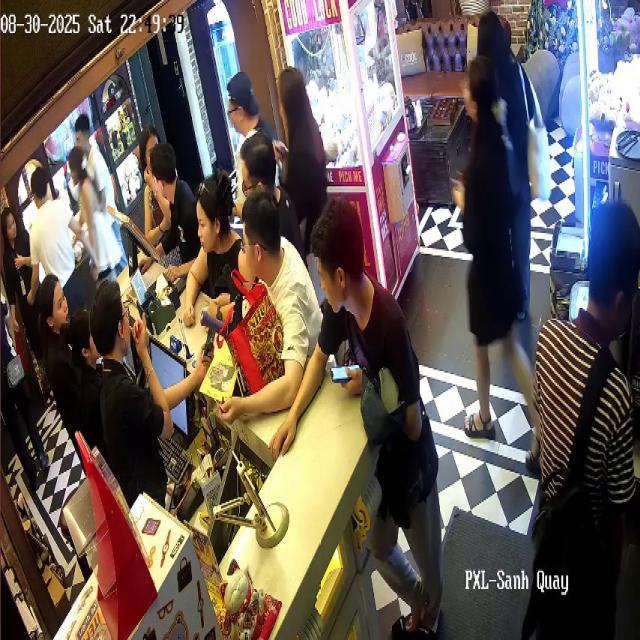khach: (307, 226, 448, 622), (522, 201, 623, 607), (248, 218, 314, 385), (279, 81, 324, 236), (485, 12, 539, 120), (197, 192, 247, 287), (32, 175, 72, 274), (77, 116, 114, 198), (218, 76, 257, 140), (70, 152, 94, 240), (142, 132, 156, 226)
nhan vien: (453, 58, 529, 447), (98, 286, 179, 460), (2, 207, 38, 341), (155, 160, 195, 254), (76, 313, 102, 431), (48, 279, 66, 389)
